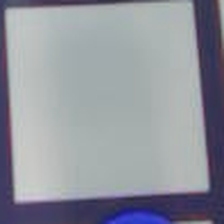empty: (6, 7, 210, 192)
